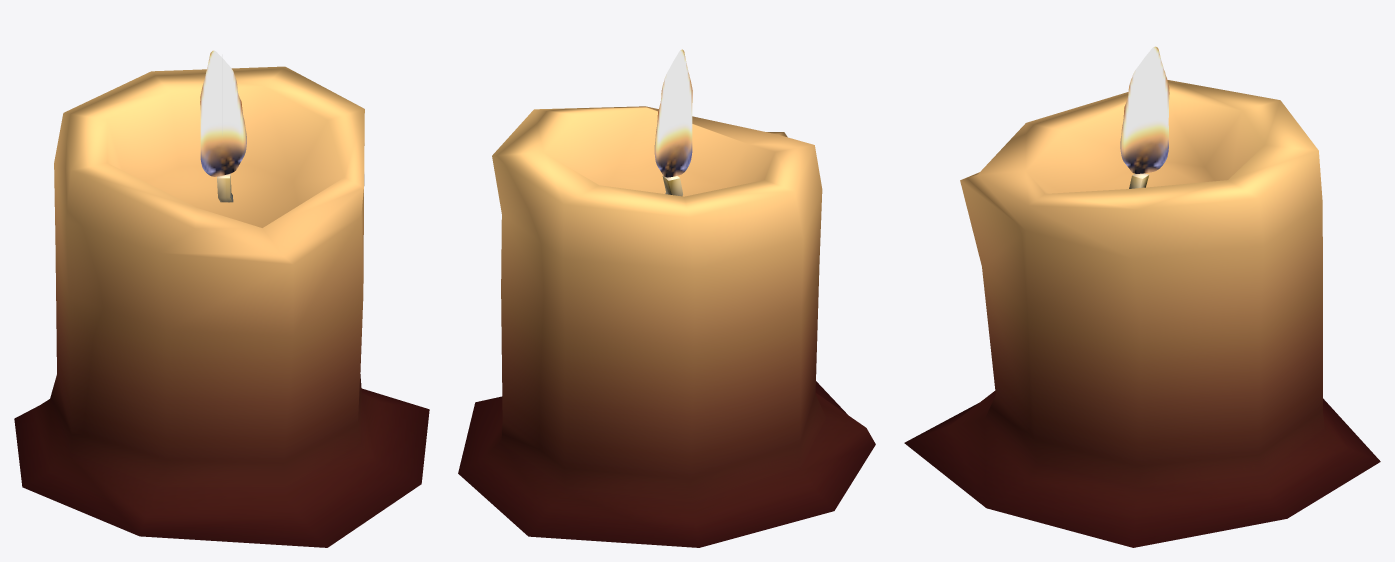
File: CandleShapeC.029.glb
3 views of the same model, side by side, from view 1: azimuth 30°, elevation 25°; view 2: azimuth 150°, elevation 25°; view 3: azimuth 270°, elevation 25° (orthographic).
Visible parts, largest first — view 1: CandleShapeC.029; view 2: CandleShapeC.029; view 3: CandleShapeC.029.
Part boxes in pixels (box(x1,y1,x2,y2)): CandleShapeC.029: box(14, 50, 429, 547); CandleShapeC.029: box(458, 49, 875, 547); CandleShapeC.029: box(904, 46, 1380, 547).
Bounding box in the file's own units: 0.1734 × 0.1799 × 0.1889.
Materials: 2 (2 with a texture image).
